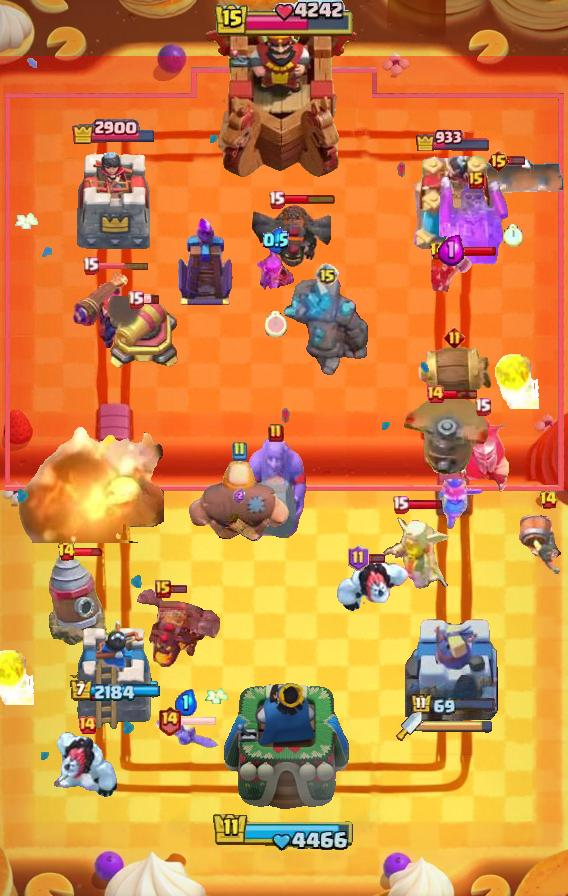archer-evolution: (134, 585, 220, 671), (247, 204, 331, 270)
archer-queen: (243, 436, 309, 548)
balloon: (186, 458, 292, 548)
bar: (405, 611, 501, 731)
barbarian: (152, 720, 218, 754)
cannoneer-tower: (282, 277, 372, 379)
clock: (212, 811, 356, 853), (213, 0, 355, 40)
dark-prince: (404, 393, 488, 481)
electro-spirit: (439, 234, 466, 266), (263, 227, 289, 253), (175, 688, 198, 715), (233, 488, 245, 503)
elixir: (265, 311, 287, 337), (503, 224, 523, 248)
emote: (284, 193, 337, 205), (445, 245, 497, 257), (96, 261, 150, 271), (407, 498, 445, 510), (180, 715, 217, 727), (443, 388, 479, 400), (73, 547, 105, 557), (507, 154, 526, 165), (141, 294, 160, 305), (367, 553, 386, 564), (168, 584, 187, 594)
evolution-symbol: (255, 245, 297, 293)
hog-rider: (437, 477, 485, 531), (428, 248, 474, 294)
ice-spirit-evolution-symbol: (175, 215, 235, 307)
king-tower: (205, 11, 363, 181), (219, 678, 349, 826)
king-tower-bar: (422, 719, 494, 733)
knight: (518, 512, 568, 576)
magic-archer: (48, 553, 108, 647)
mega-minion: (71, 270, 131, 350)
minion: (446, 157, 568, 201)
poison: (370, 509, 456, 595)
queen-tower: (70, 616, 158, 731), (71, 144, 157, 255), (407, 156, 499, 256)
rage: (53, 730, 121, 800), (335, 556, 411, 612)
royal-recruit: (105, 296, 183, 372)
selected: (71, 116, 157, 143), (68, 680, 159, 703), (411, 693, 498, 717), (416, 127, 493, 151)
skeleton-king-bar: (439, 177, 513, 265)
text: (158, 704, 183, 735), (315, 263, 339, 287), (487, 149, 510, 173), (348, 545, 369, 571), (444, 327, 465, 349), (425, 384, 445, 404), (77, 715, 97, 735), (429, 241, 448, 261), (539, 490, 558, 510), (56, 542, 75, 562), (267, 190, 284, 209), (128, 290, 145, 309), (268, 423, 284, 443), (231, 441, 247, 461), (82, 257, 99, 275), (474, 397, 491, 415), (391, 495, 408, 513), (468, 171, 484, 189), (155, 580, 171, 598)
the-log: (414, 343, 494, 403)
valkyrie: (4, 415, 164, 543), (491, 353, 539, 409), (0, 649, 34, 705)
wall-breaker-evolution: (454, 418, 510, 498)
